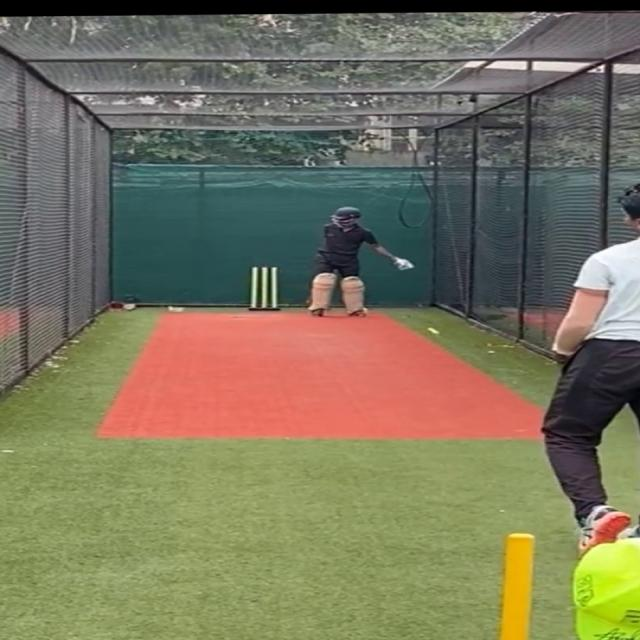stump: (250, 267, 281, 312)
